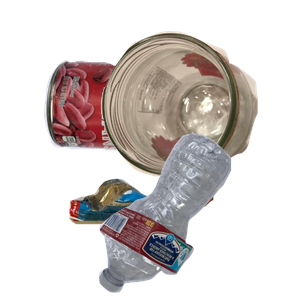glass: (98, 29, 300, 198)
metal: (41, 58, 240, 207)
plastic: (96, 131, 300, 300)
trash: (66, 173, 272, 300)
